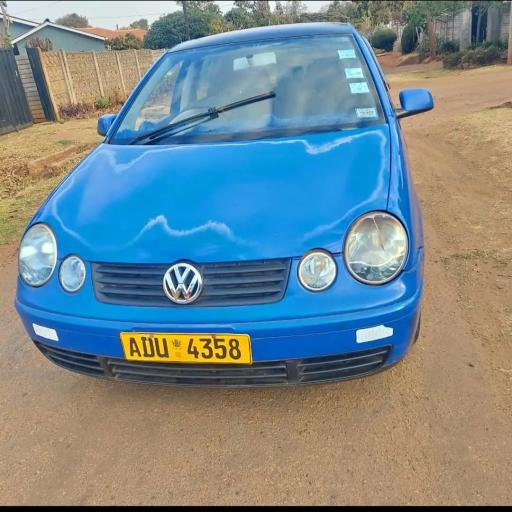number-plates: (121, 329, 254, 364)
